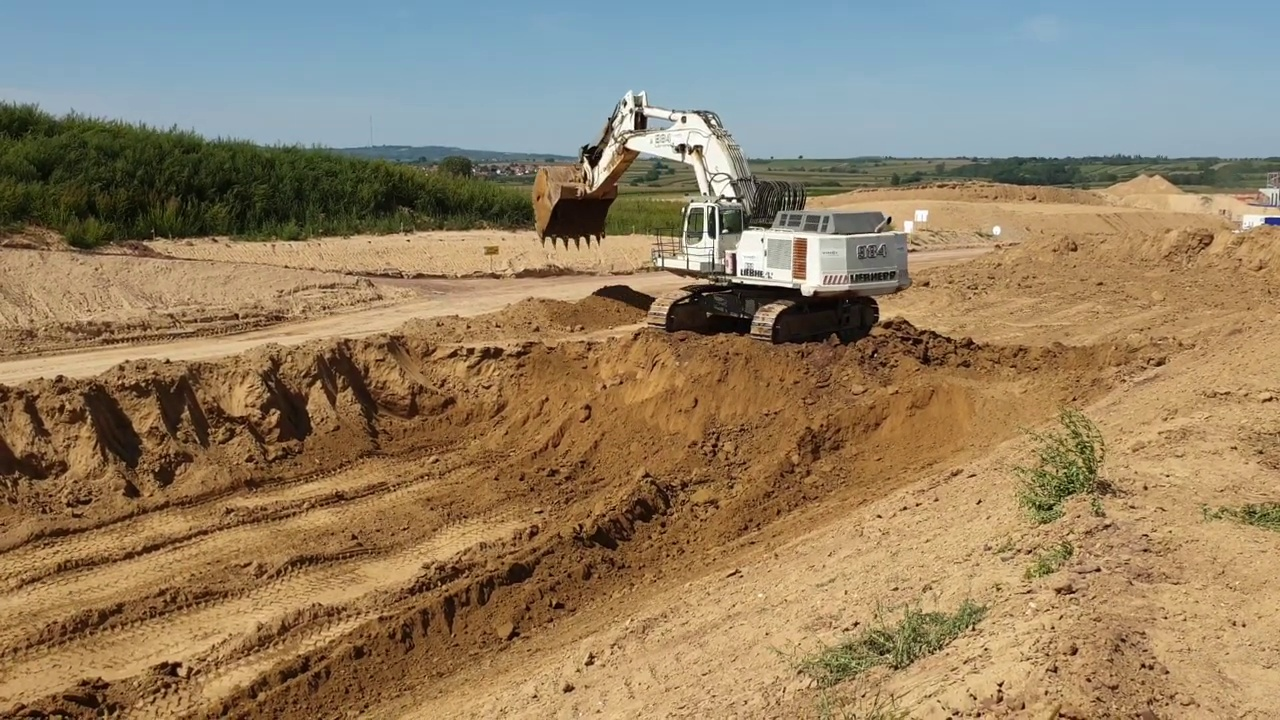excavator: (526, 82, 919, 350)
